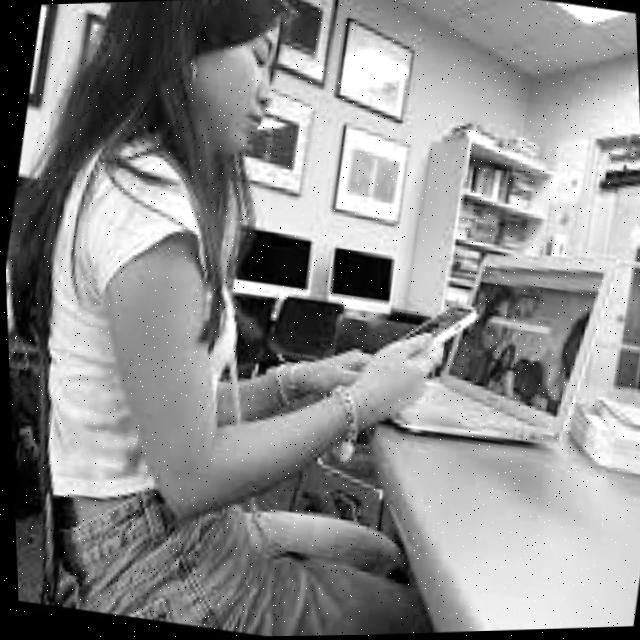phone: (398, 292, 483, 358)
